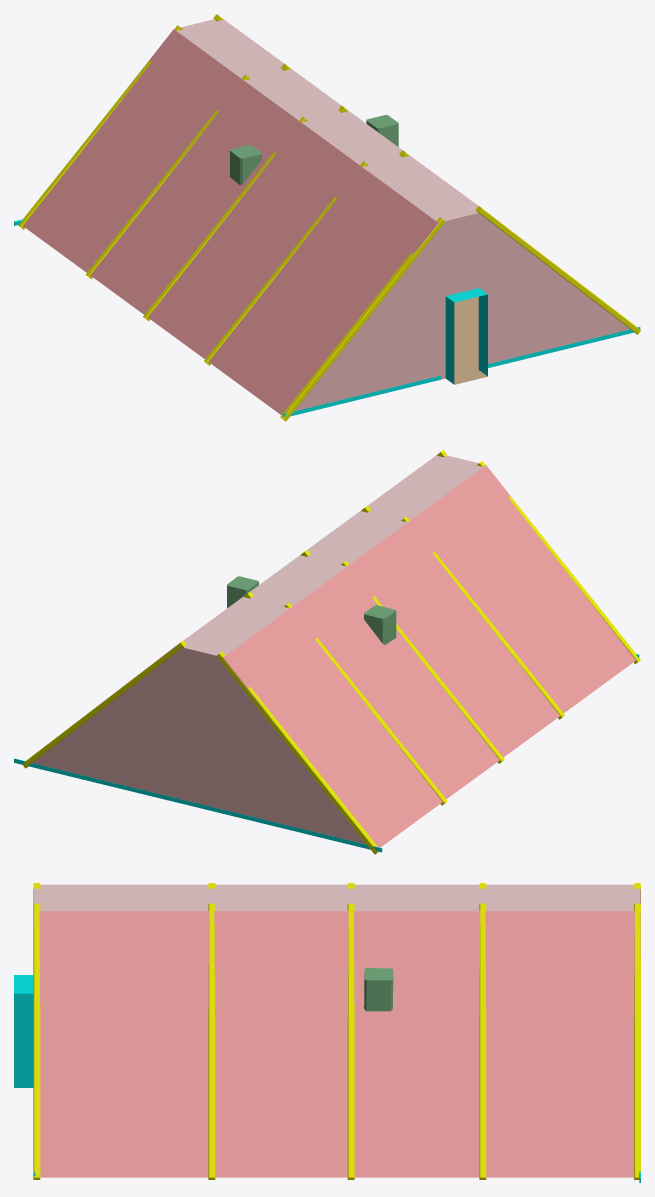
The model's file is Attic.fbx.
3 renders of one model, top to bottom at view 1: azimuth 30°, elevation 25°; view 2: azimuth 150°, elevation 25°; view 3: azimuth 270°, elevation 25°, orthographic. The views are drawn at different scales.
Parts seen in each view (by area): view 1: Attic, SupportBeam1, Attic_Trim, SupportBeam, SupportBeam5, SupportBeam9, SupportBeam3, SupportBeam7, SupportBeam_Large, SupportBeam_Large1; view 2: Attic, SupportBeam7, Attic_Trim, SupportBeam6, SupportBeam_Large, SupportBeam3, SupportBeam9, SupportBeam1, SupportBeam5, SupportBeam_Large1; view 3: Attic, SupportBeam, SupportBeam4, SupportBeam2, SupportBeam8, SupportBeam6, SupportBeam_Large1.
Boxes of the visible parts, x1,y1,x2,y2 form: Attic: (23,19,629,414); SupportBeam1: (280,217,445,421); Attic_Trim: (14,219,640,416); SupportBeam: (475,206,640,334); SupportBeam5: (143,116,307,321); SupportBeam9: (85,74,250,279); SupportBeam3: (204,161,368,365); SupportBeam7: (18,25,182,229); SupportBeam_Large: (230,145,261,185); SupportBeam_Large1: (366,115,398,146); Attic: (32,455,635,847); SupportBeam7: (216,651,378,854); Attic_Trim: (14,654,639,852); SupportBeam6: (22,640,186,768); SupportBeam_Large: (364,605,396,644); SupportBeam3: (401,516,564,719); SupportBeam9: (284,602,447,805); SupportBeam1: (477,461,640,663); SupportBeam5: (341,561,504,763); SupportBeam_Large1: (227,576,258,608); Attic: (14,884,640,1177); SupportBeam: (33,903,40,1179); SupportBeam4: (347,903,354,1179); SupportBeam2: (208,903,215,1179); SupportBeam8: (479,903,486,1179); SupportBeam6: (634,903,640,1179); SupportBeam_Large1: (364,968,393,1011).
Bounding box in the file's own units: 959 × 412 × 1227.
